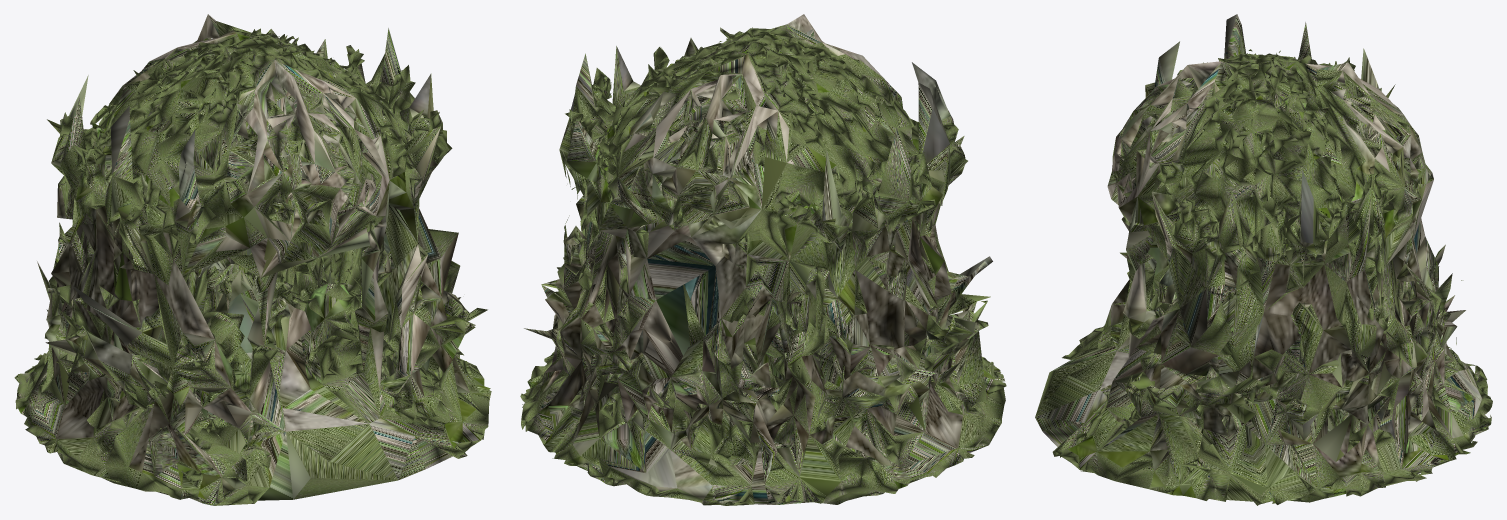
Rendered from Verdant_Citadel_of_th.glb.
3 views of the same model, side by side, from view 1: azimuth 30°, elevation 25°; view 2: azimuth 150°, elevation 25°; view 3: azimuth 270°, elevation 25° (orthographic). The views are drawn at different scales.
Visible parts, largest first — view 1: Verdant_Citadel_of_th; view 2: Verdant_Citadel_of_th; view 3: Verdant_Citadel_of_th.
Boxes of the visible parts, left/top/right/bottom form: Verdant_Citadel_of_th: left=14, top=14, right=491, bottom=505; Verdant_Citadel_of_th: left=520, top=14, right=1006, bottom=505; Verdant_Citadel_of_th: left=1035, top=14, right=1492, bottom=505.
Bounding box in the file's own units: 1.89 × 1.58 × 1.87.
1 material, 1 textured.
